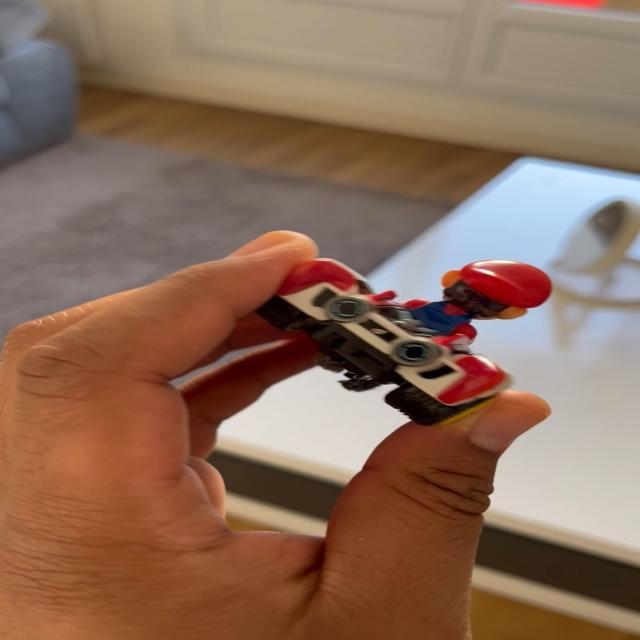mario: (267, 244, 565, 421)
